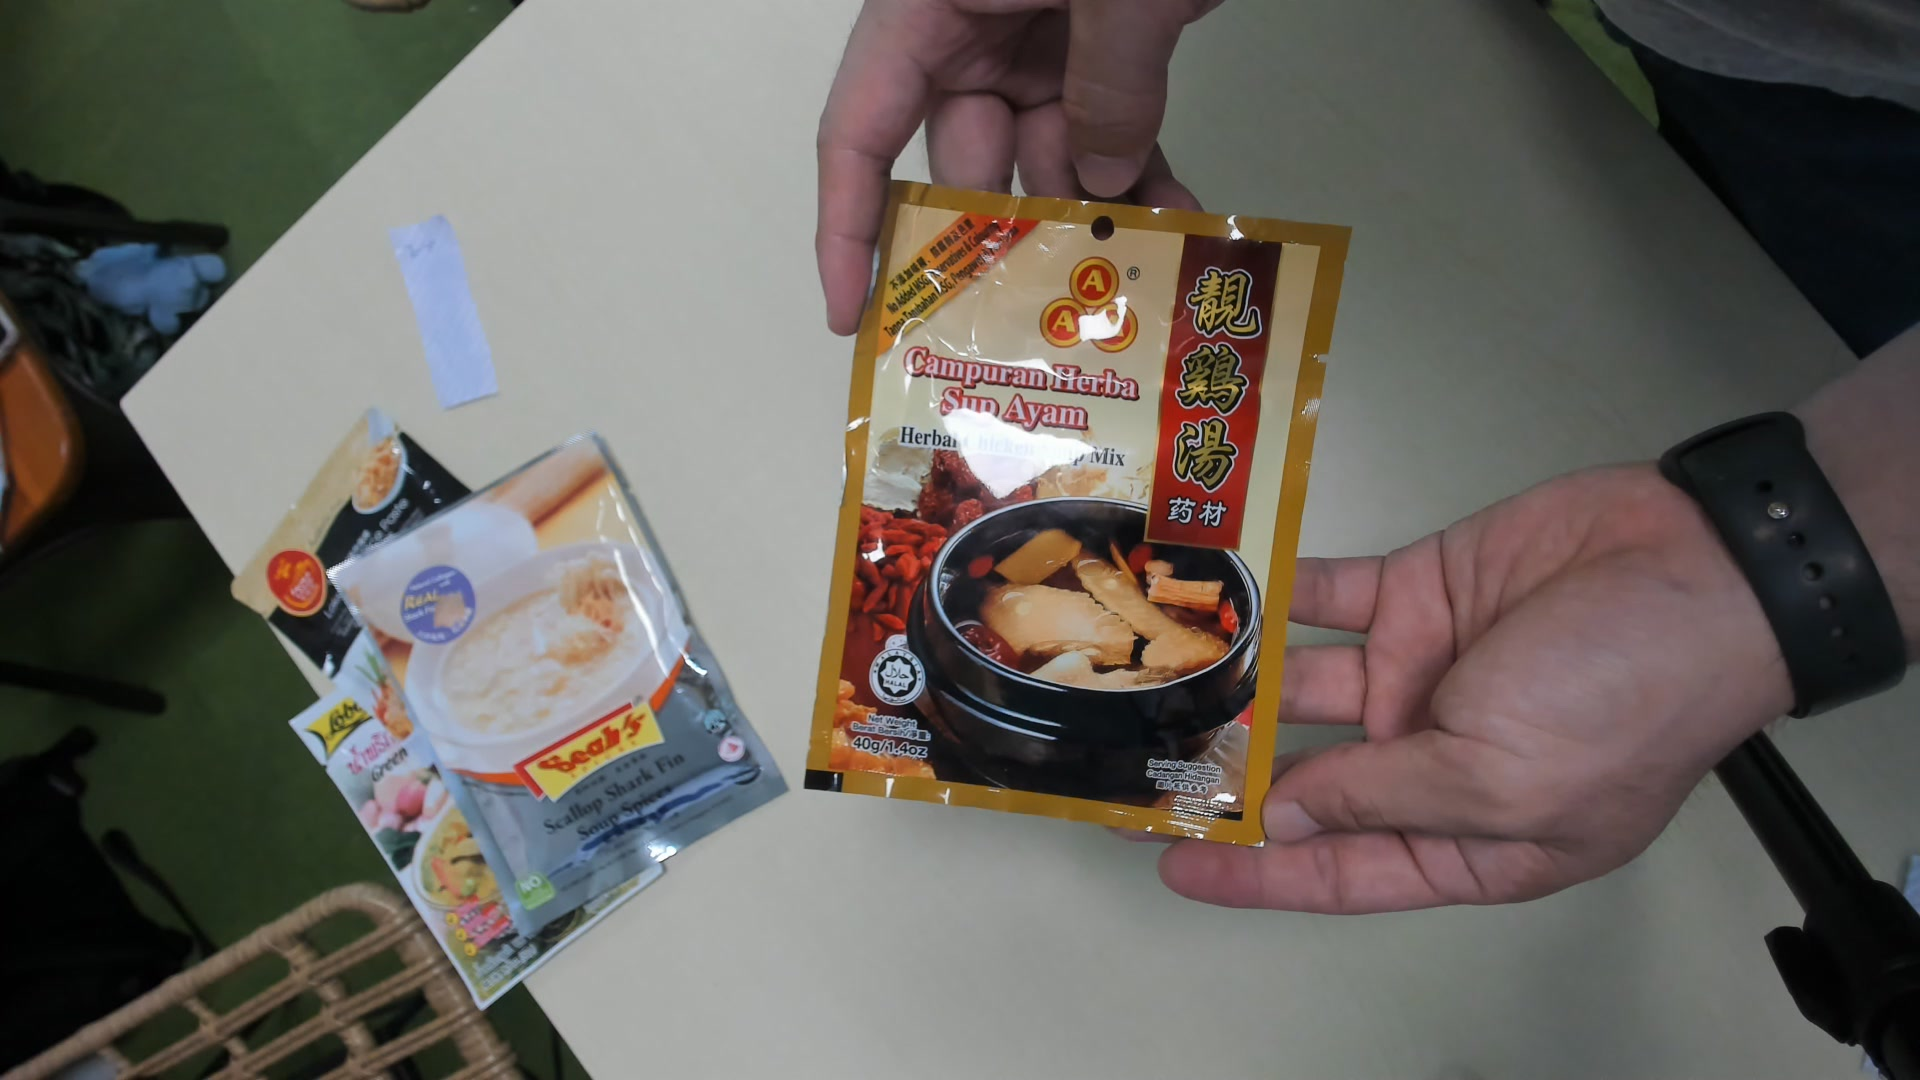OtherSauceDressing_0-99g_Halal_NonHealthy: (808, 189, 1352, 857)
